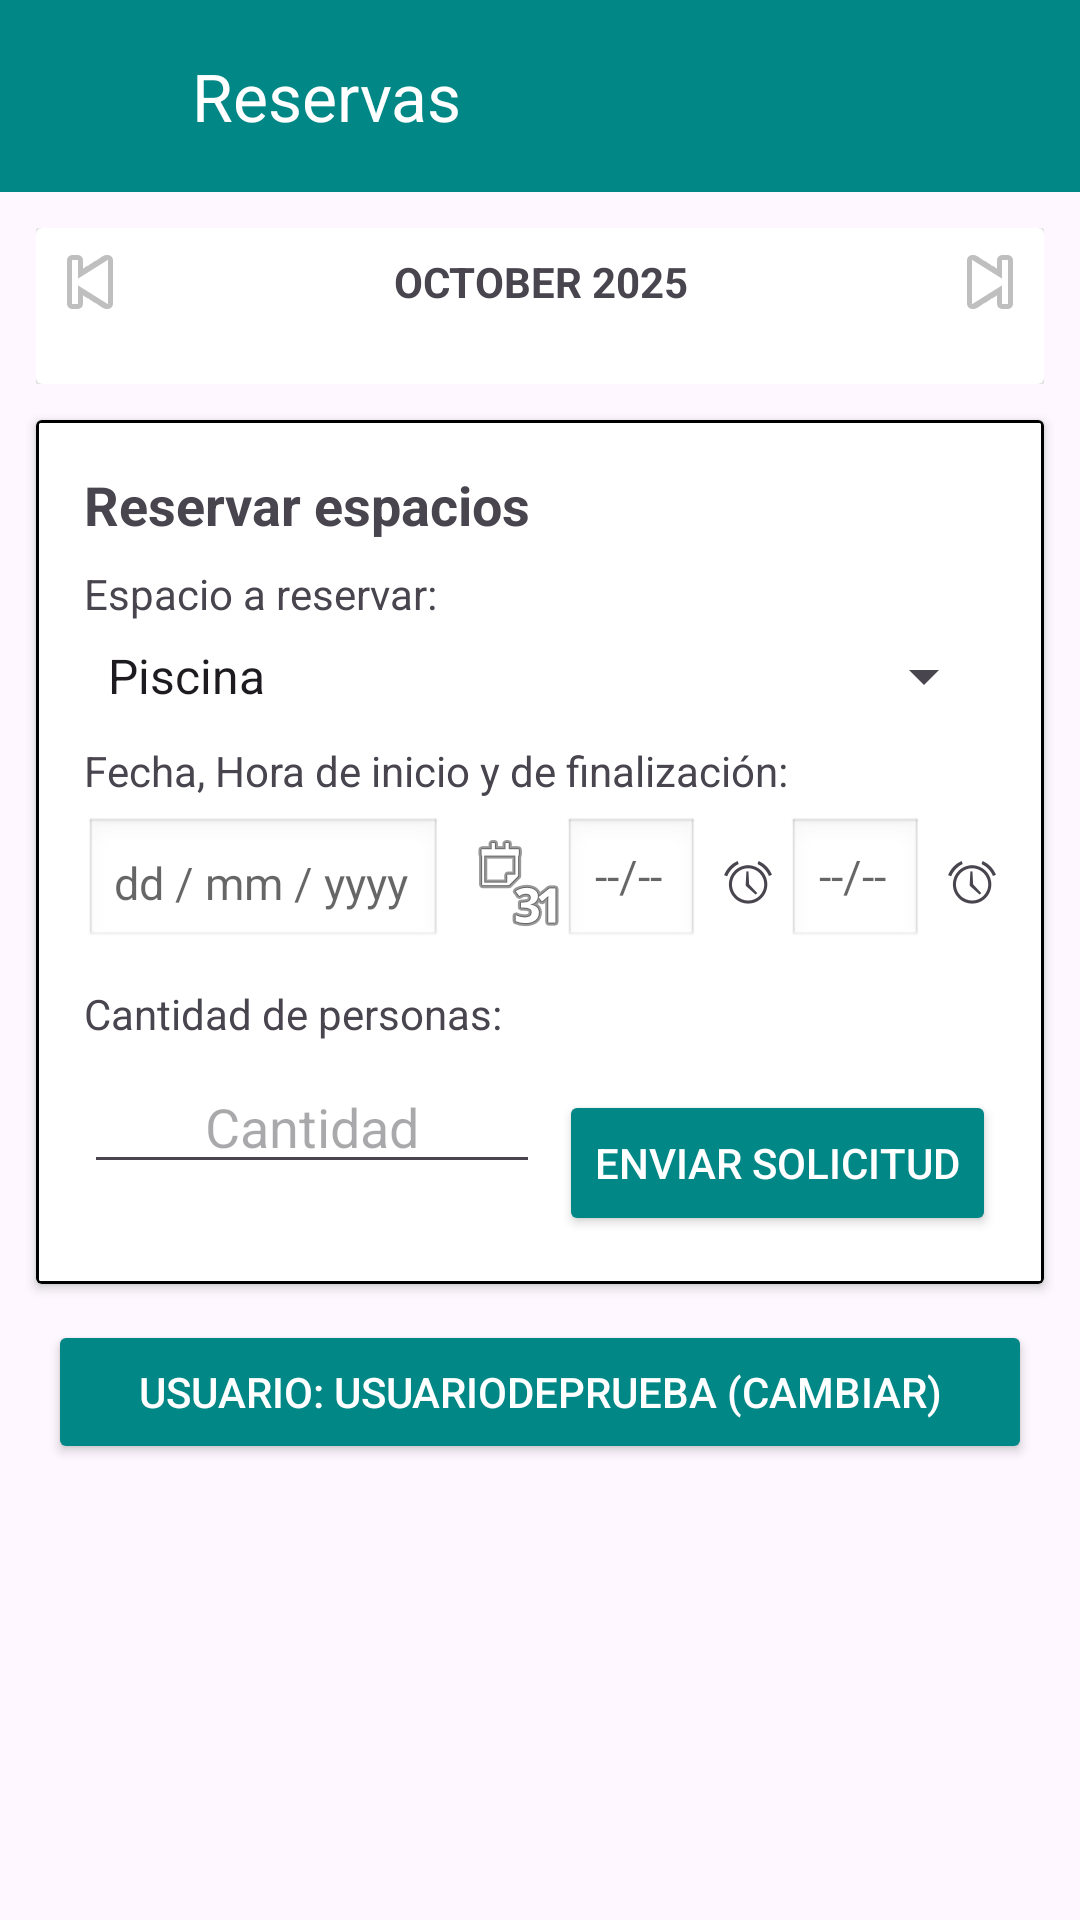

Screen size 1080×1920. Icon name, then its center in pixels as point (x, y):
lock idle alarm: point (748, 882), point (972, 882)
next: point (1005, 268)
pick date: point (518, 883)
prev: point (74, 268)
